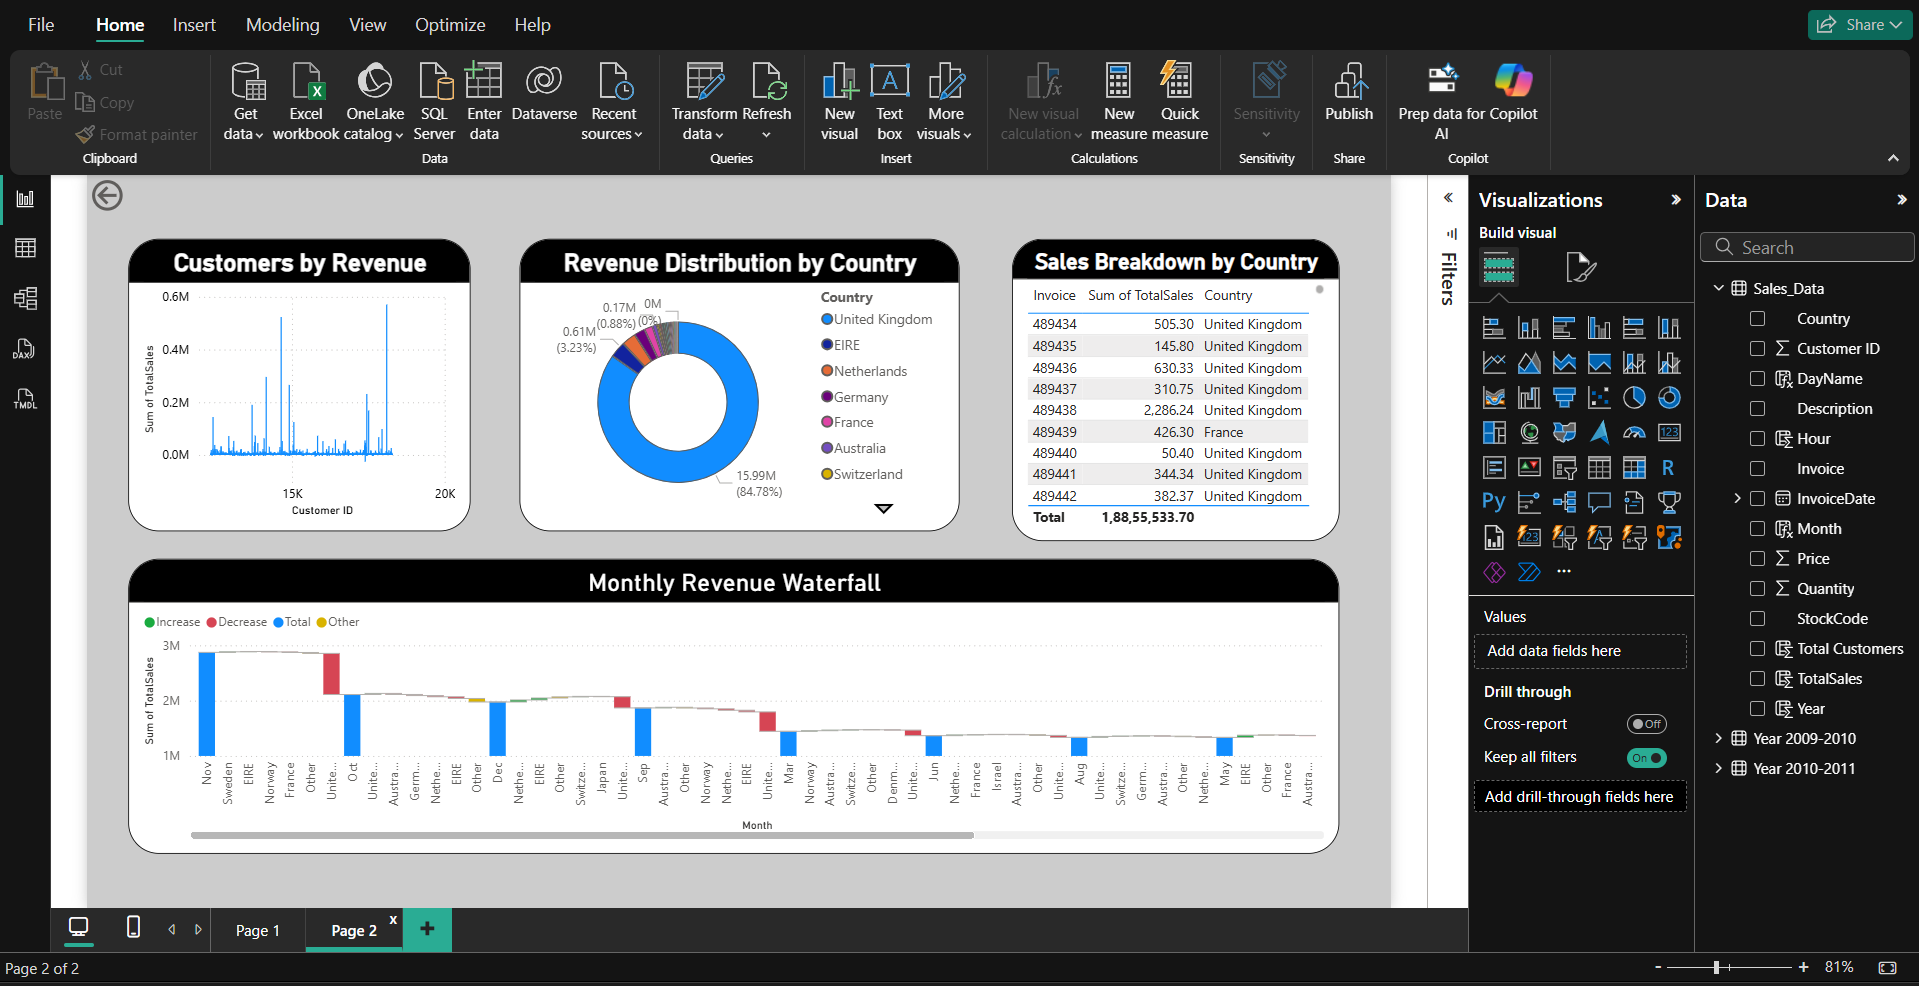

This screenshot's page, from the dashboard's own definition file:
{"tool":"powerbi","page":{"name":"Page 2","canvas":[1280,720],"ordinal":1},"visuals":[{"type":"clusteredColumnChart","title":"Customers by Revenue","fields":{"Y":["Sum(Sales_Data.TotalSales)"],"Category":["Sales_Data.Customer ID"]},"box":[40.5,62.6,336.2,287.1],"z":0},{"type":"donutChart","title":"Revenue Distribution by Country","fields":{"Y":["Sum(Sales_Data.TotalSales)"],"Category":["Sales_Data.Country"]},"box":[424.5,62.6,431.9,287.1],"z":1000},{"type":"tableEx","title":"Sales Breakdown by Country","fields":{"Values":["Sales_Data.Invoice","Sum(Sales_Data.TotalSales)","Sales_Data.Country"]},"box":[908,62.6,321.5,296.9],"z":2000},{"type":"actionButton","box":[0,0,100,40],"z":3000},{"type":"waterfallChart","title":"Monthly Revenue Waterfall","fields":{"Y":["Sum(Sales_Data.TotalSales)"],"Breakdown":["Sales_Data.Country"],"Category":["Sales_Data.Month"]},"box":[40.5,376.7,1189,289.6],"z":4000}]}

Visuals, with their boxes on the page's 1280x720 design canvas (x1, y1, x2, y2). These are canvas units, not pixel positions in the 1919x986 screenshot, which may show the page scaled, cropped or inside an application window:
"Customers by Revenue" clusteredColumnChart: <box>40,63,377,350</box>
"Revenue Distribution by Country" donutChart: <box>424,63,856,350</box>
"Sales Breakdown by Country" tableEx: <box>908,63,1230,360</box>
actionButton: <box>0,0,100,40</box>
"Monthly Revenue Waterfall" waterfallChart: <box>40,377,1230,666</box>
